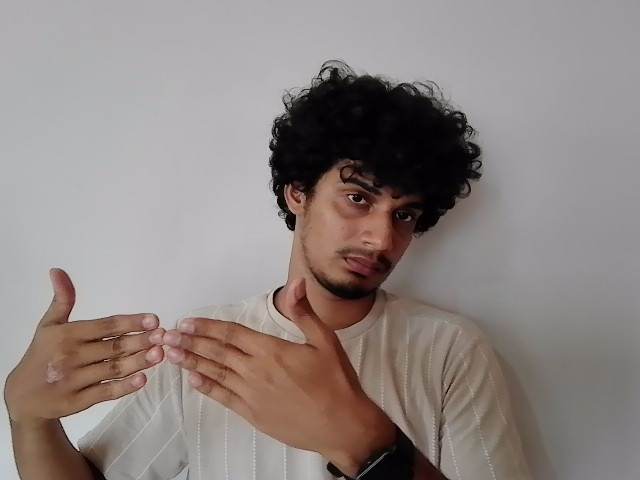family: (4, 268, 366, 453)
